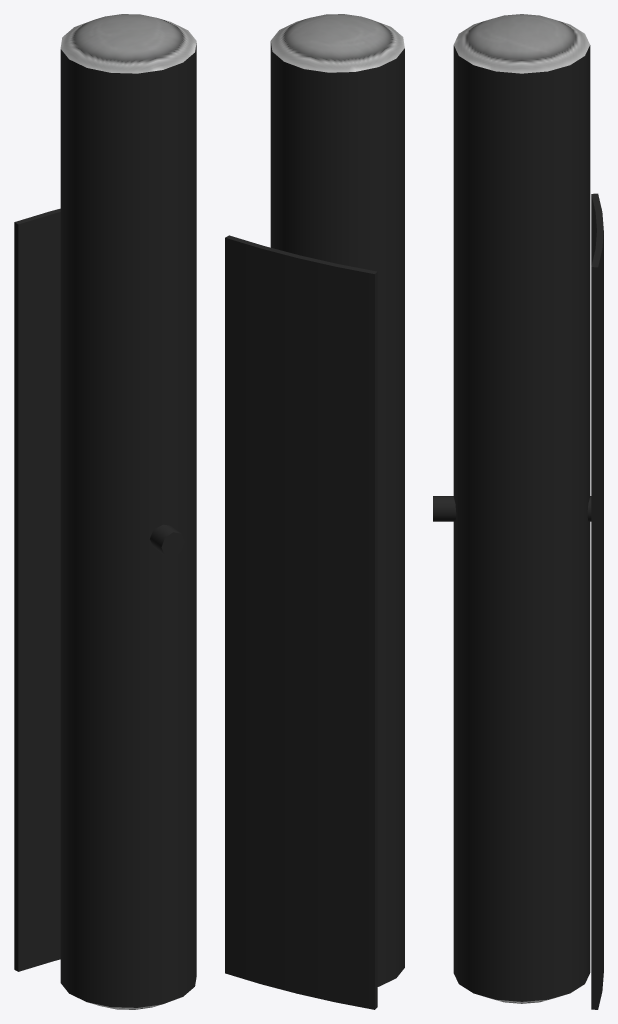
The model's file is aquila_radiator_tank_single_srf_2.obj.
The picture shows the model from 3 angles, left to right: view 1: azimuth 30°, elevation 25°; view 2: azimuth 150°, elevation 25°; view 3: azimuth 270°, elevation 25°; orthographic projection.
Parts seen in each view (by area): view 1: aquila_radiator_tank_single_srf_2; view 2: aquila_radiator_tank_single_srf_2; view 3: aquila_radiator_tank_single_srf_2.
Part boxes in pixels (left/top/right/bottom): aquila_radiator_tank_single_srf_2: left=14, top=14, right=196, bottom=1009; aquila_radiator_tank_single_srf_2: left=225, top=14, right=404, bottom=1009; aquila_radiator_tank_single_srf_2: left=433, top=14, right=603, bottom=1009.
Size of the model in its own units: 0.3198 by 1.95 by 0.3125.
